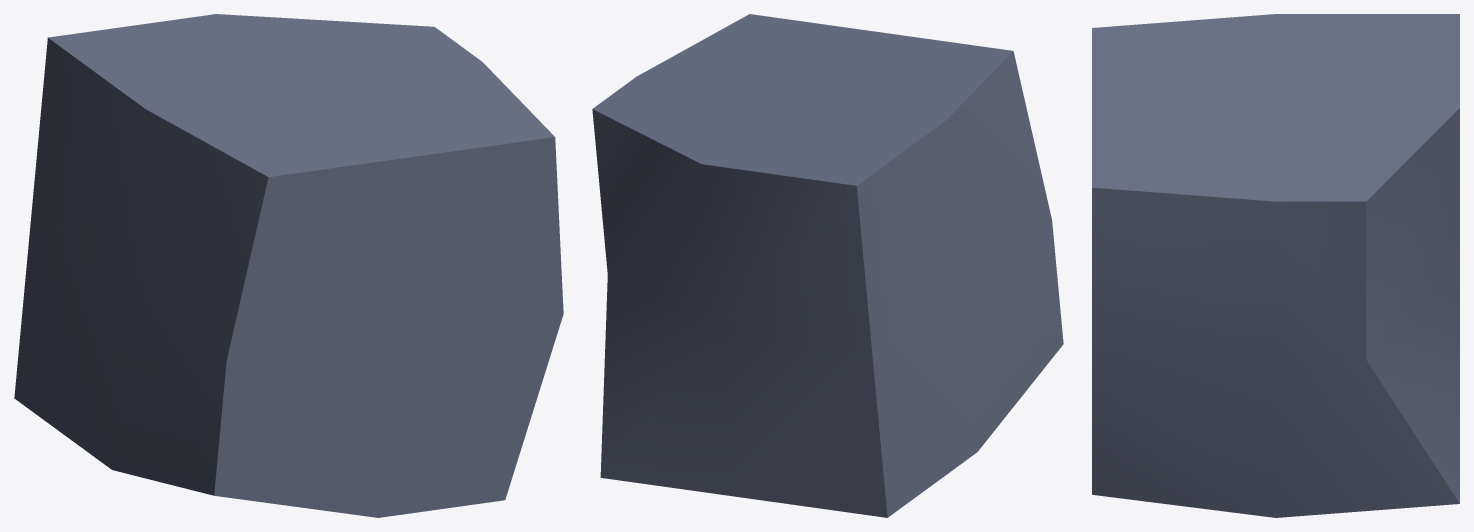
Rendered from Rock2.fbx.
The picture shows the model from 3 angles, left to right: view 1: azimuth 30°, elevation 25°; view 2: azimuth 150°, elevation 25°; view 3: azimuth 270°, elevation 25°; orthographic projection. The views are drawn at different scales.
Parts seen in each view (by area): view 1: Rock2; view 2: Rock2; view 3: Rock2.
Boxes of the visible parts, left/top/right/bottom form: Rock2: left=14, top=14, right=563, bottom=517; Rock2: left=592, top=14, right=1063, bottom=517; Rock2: left=1092, top=14, right=1459, bottom=517.
Bounding box in the file's own units: 57.76 × 52.79 × 57.76.
